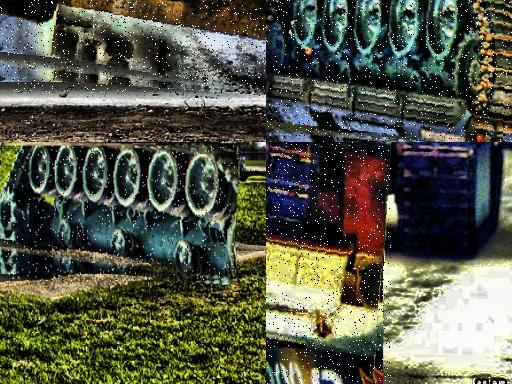tanks: (267, 1, 512, 143), (1, 147, 241, 285), (267, 143, 392, 384), (1, 1, 267, 94), (383, 143, 509, 259)
